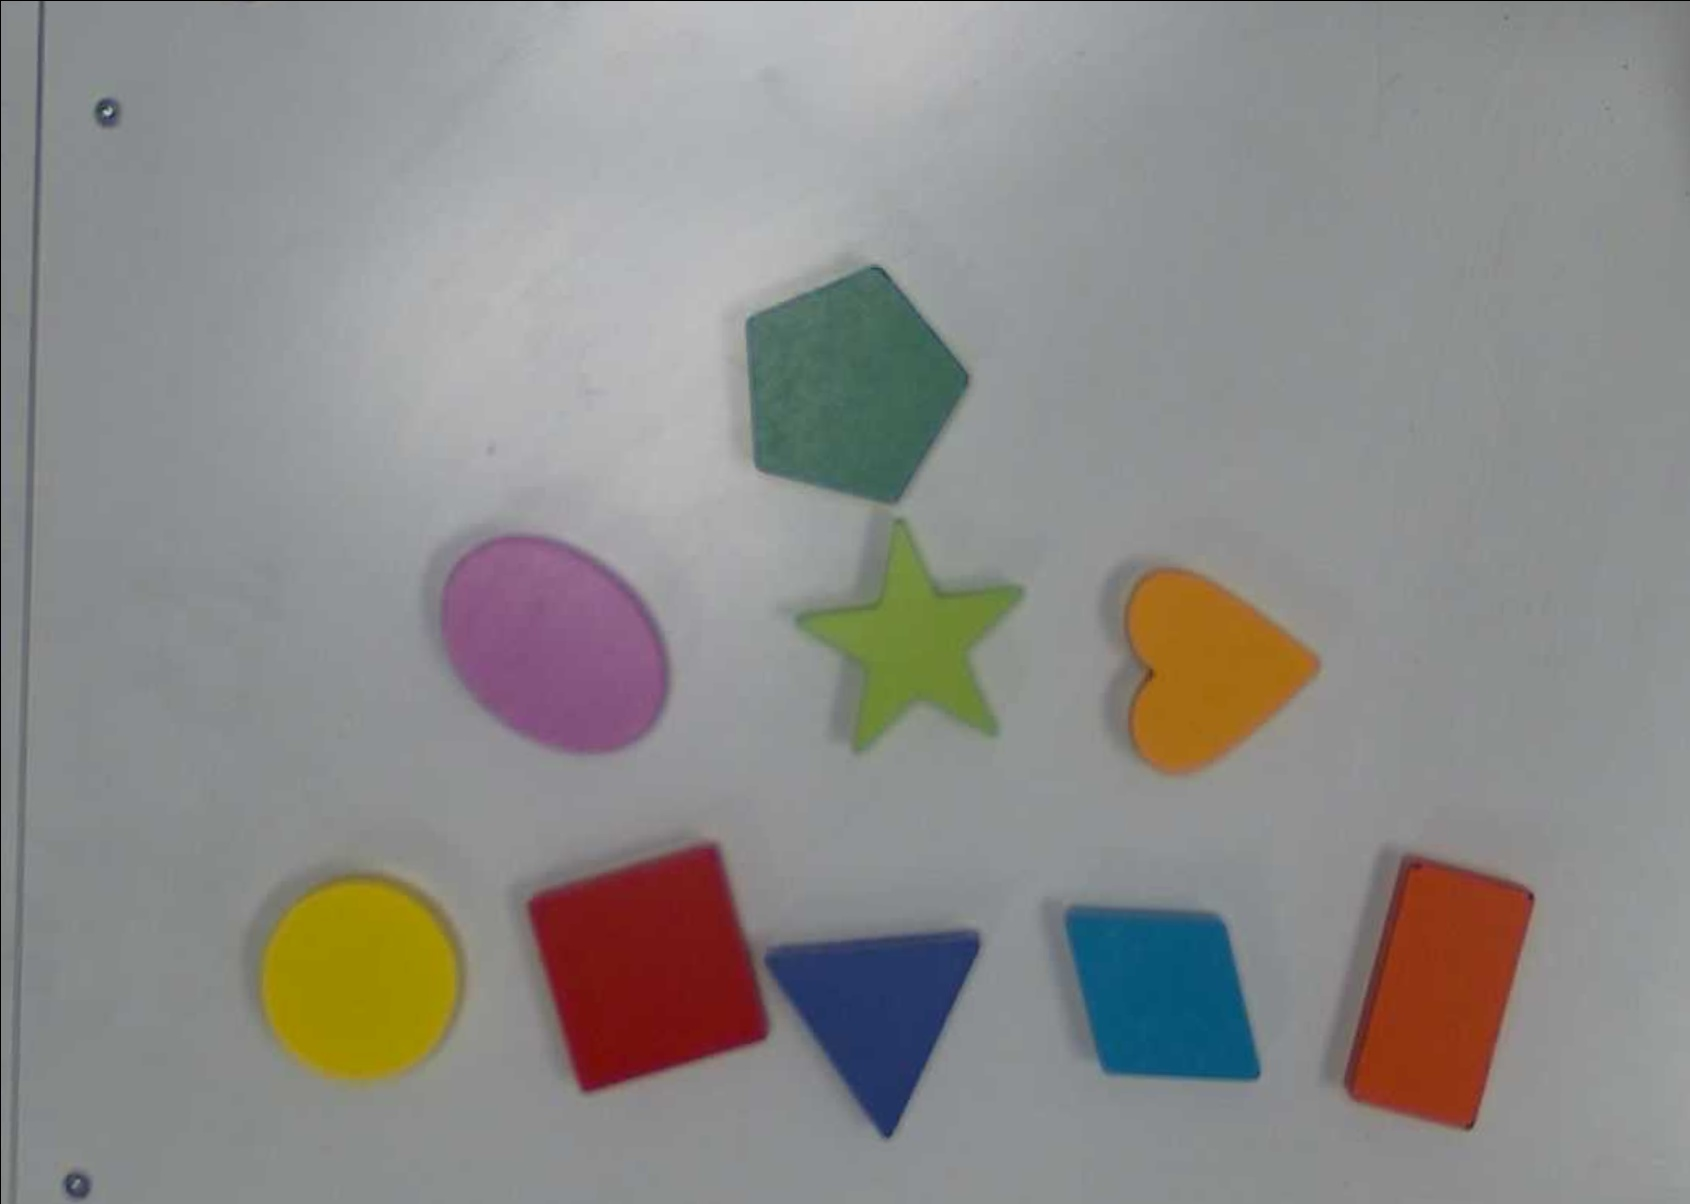Circle: (254, 876, 466, 1089)
Ellipse: (438, 533, 672, 753)
Heart: (1119, 566, 1323, 774)
Parallelogram: (1059, 903, 1267, 1083)
Pentagon: (740, 261, 973, 504)
Rectangle: (1339, 852, 1540, 1132)
Square: (523, 839, 774, 1096)
Star: (790, 517, 1032, 754)
Triangle: (764, 923, 985, 1144)
